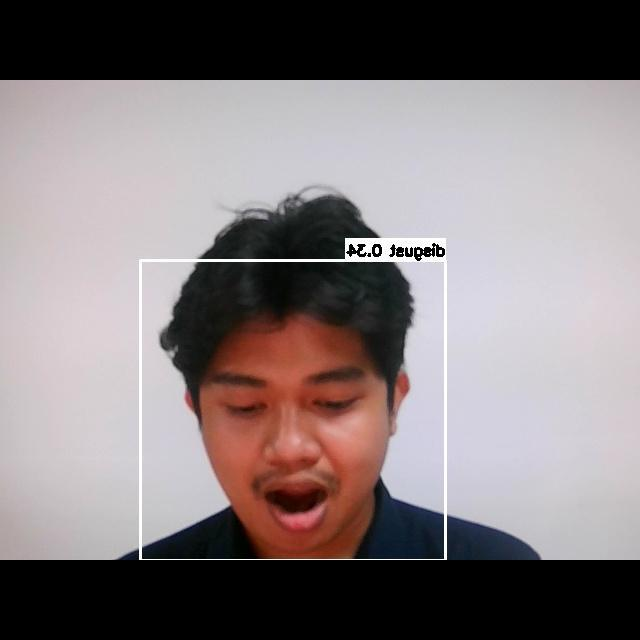Surprised: (199, 334, 416, 539)
